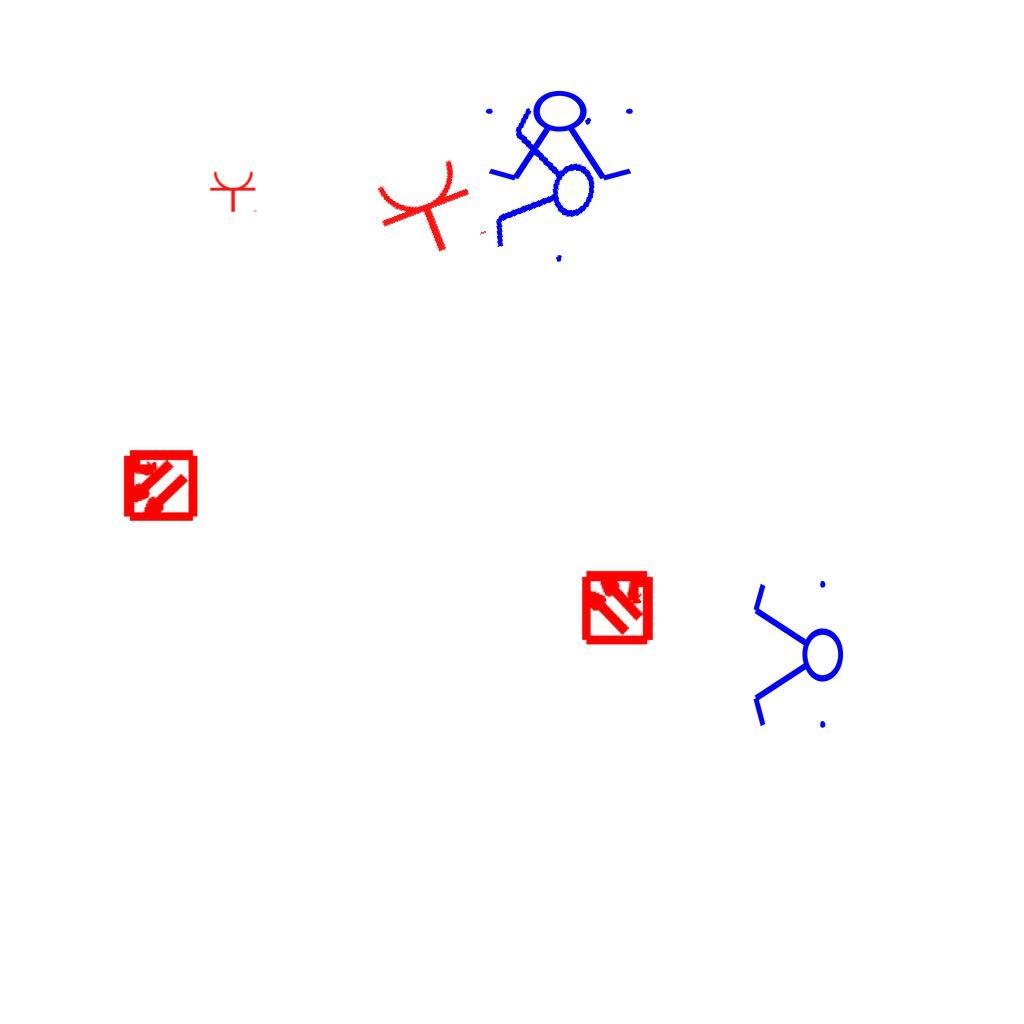OT_Multisensormelder_(Kombination_RMO_WMD): (561, 549, 674, 662), (102, 429, 215, 542)
Schukosteckdose_einfach: (367, 152, 492, 270), (209, 170, 259, 213)
Serienschalter: (483, 93, 613, 279), (749, 572, 845, 740), (477, 89, 645, 185)
